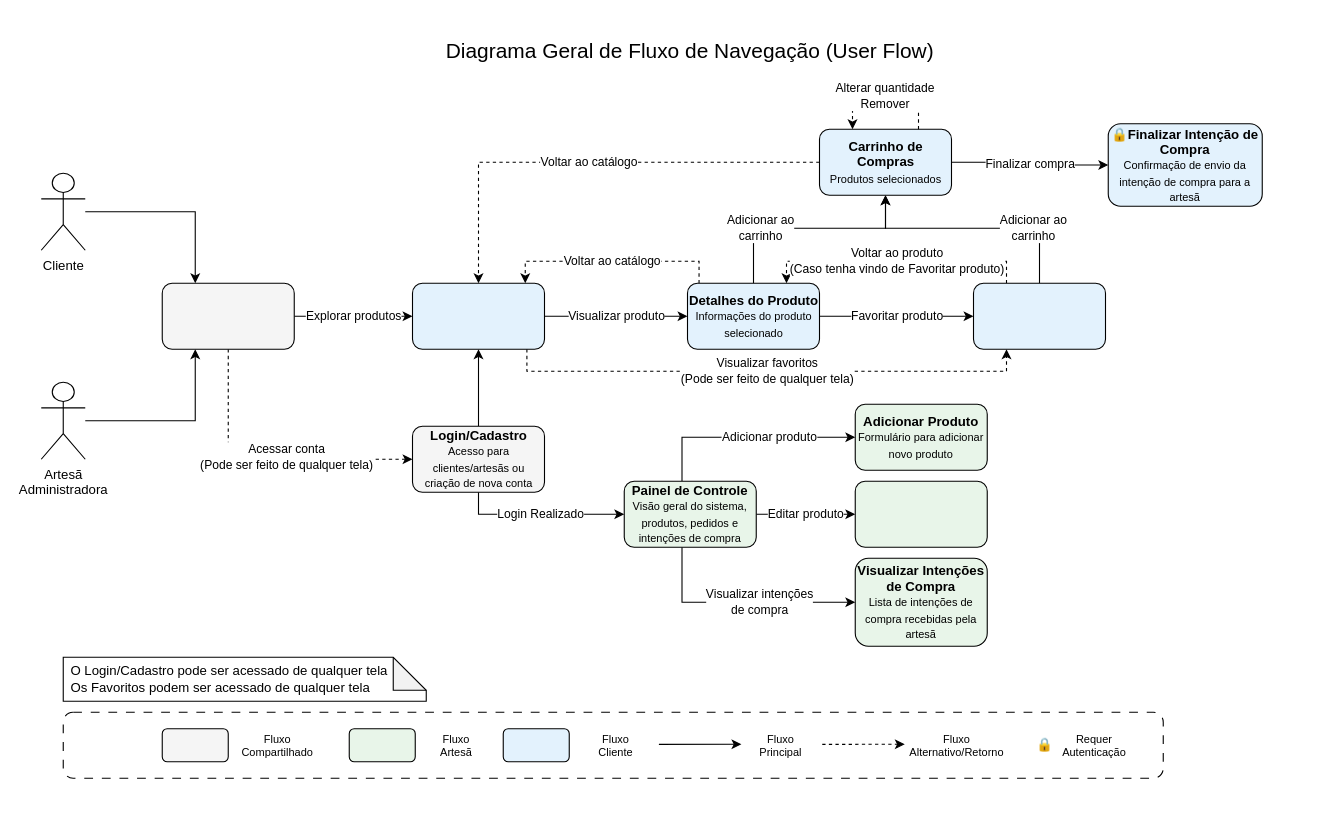
Image size: 1328x840. Some labels were removed from this diagram. The box of each missing label's shape, as (x1, y1, x2, y2) in pixels:
Catálogo de Produtos Lista de produtos disponíveis para compra: (411, 282, 544, 349)
Editar Produto Formulário para editar produto selecionado: (854, 480, 987, 547)
Legenda: (62, 711, 1163, 778)
Página Inicial Página de boas-vindas e destaques: (161, 282, 294, 349)
🔒 Favoritos Exibe produtos favoritos: (972, 282, 1106, 349)
